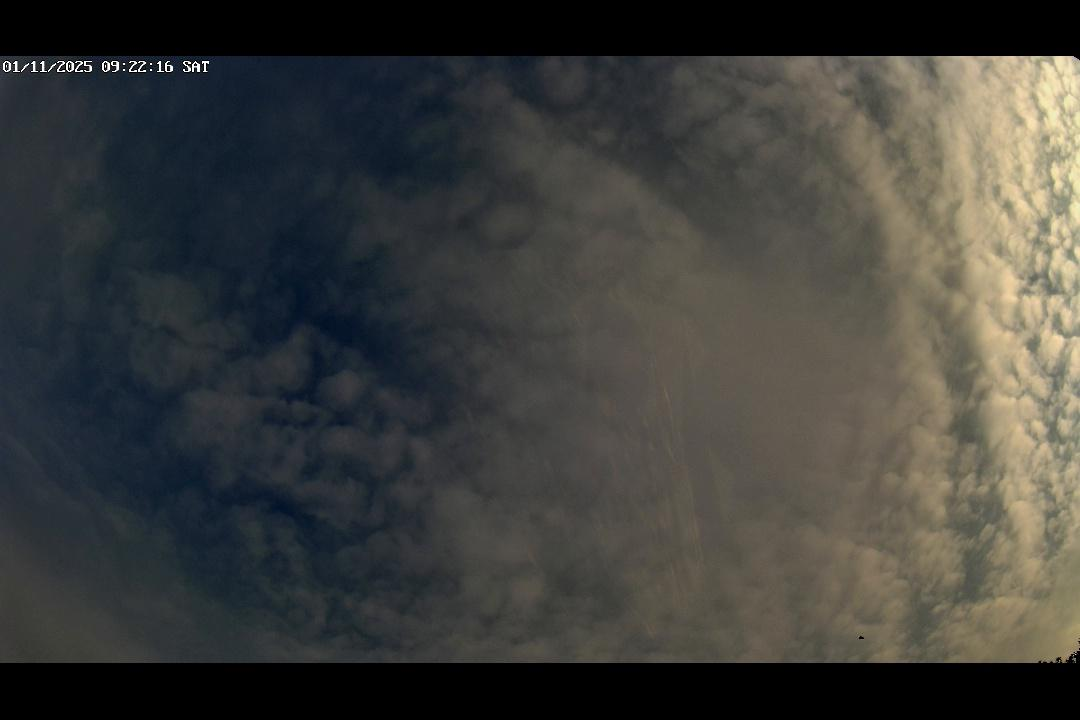WildLife: (850, 632, 874, 643)
